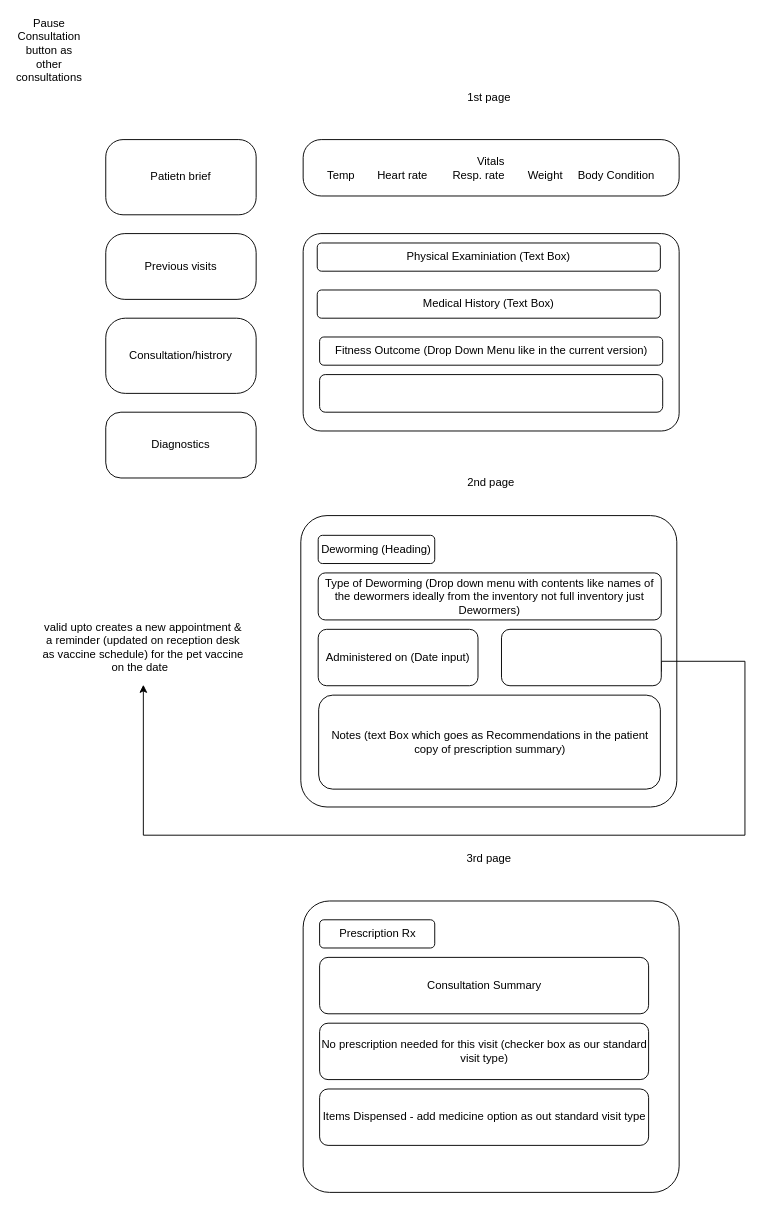
Image size: 769x1209. Some labels were removed from this diagram. The shapes that lost their labels are listed below. From the top down, each one's centre as x and y in pixels, then its label:
(x=491, y=393): Dewormig Type (Drop down menu with options like Liquid/Tab)
(x=581, y=657): Valid upto (Date input)
